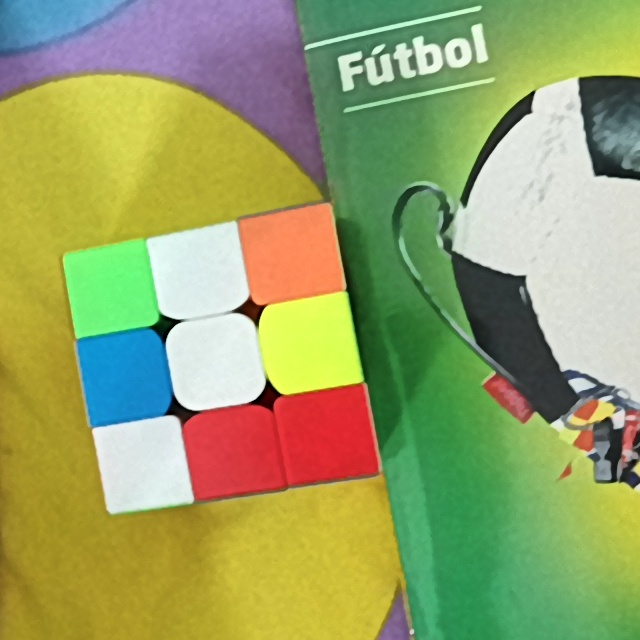tile: (288, 399, 365, 473), (254, 217, 331, 289), (90, 340, 162, 412), (75, 255, 149, 325), (275, 307, 345, 380), (195, 419, 270, 487), (109, 431, 178, 503), (166, 238, 236, 307), (185, 328, 251, 399)
